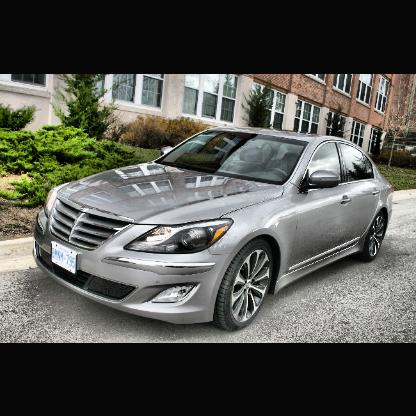Hyundai Genesis Sedan 2012: (34, 128, 395, 328)
